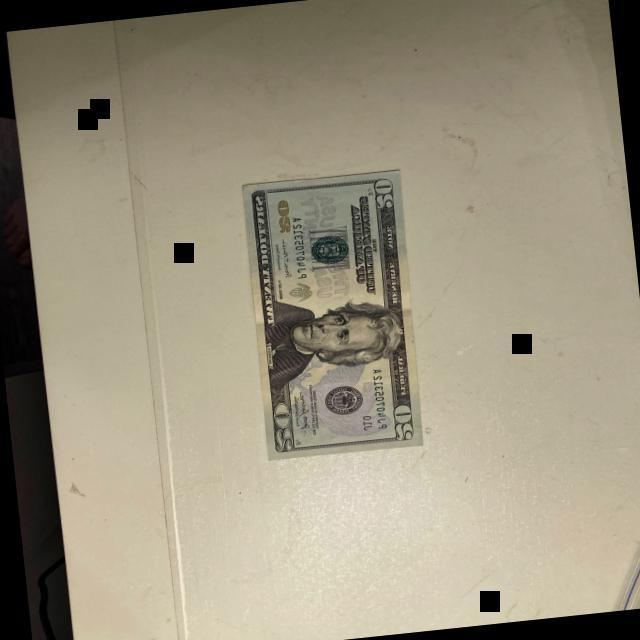twenty: (238, 166, 431, 462)
